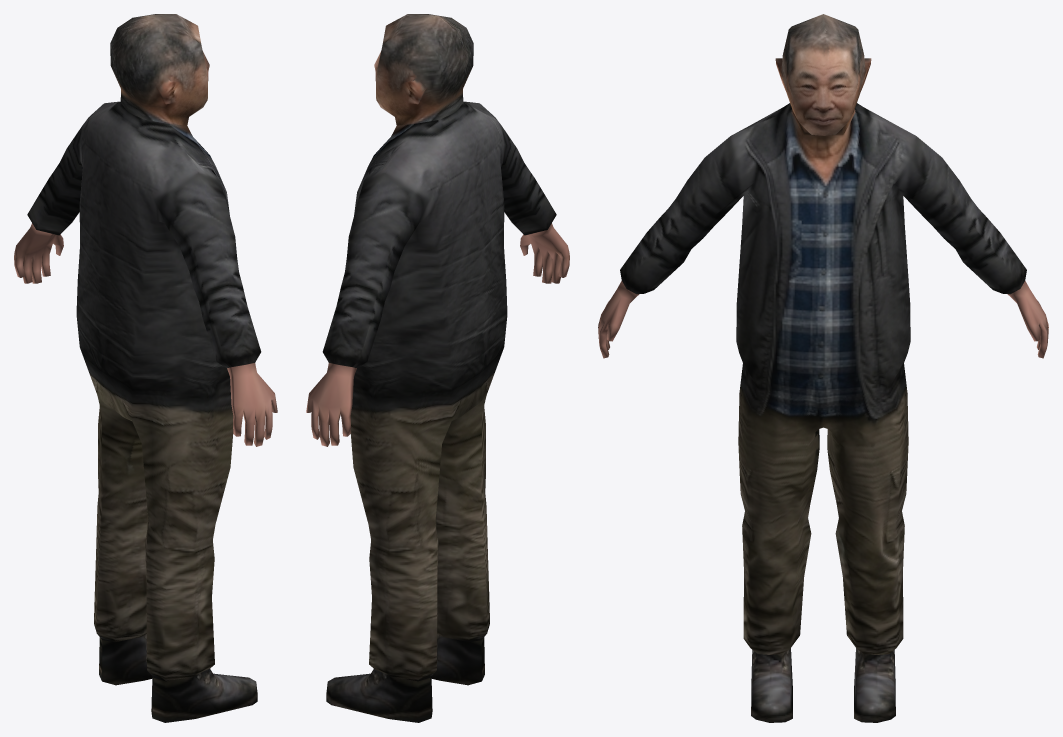
File: Character_Male_42.fbx
The picture shows the model from 3 angles, left to right: view 1: azimuth 30°, elevation 25°; view 2: azimuth 150°, elevation 25°; view 3: azimuth 270°, elevation 25°; orthographic projection.
Parts seen in each view (by area): view 1: Character_Male_42; view 2: Character_Male_42; view 3: Character_Male_42.
Part boxes in pixels (x1,y1,x2,y2): Character_Male_42: (14, 14, 277, 722); Character_Male_42: (306, 14, 569, 722); Character_Male_42: (598, 14, 1048, 722).
Size of the model in its own units: 0.3316 by 1.65 by 1.
